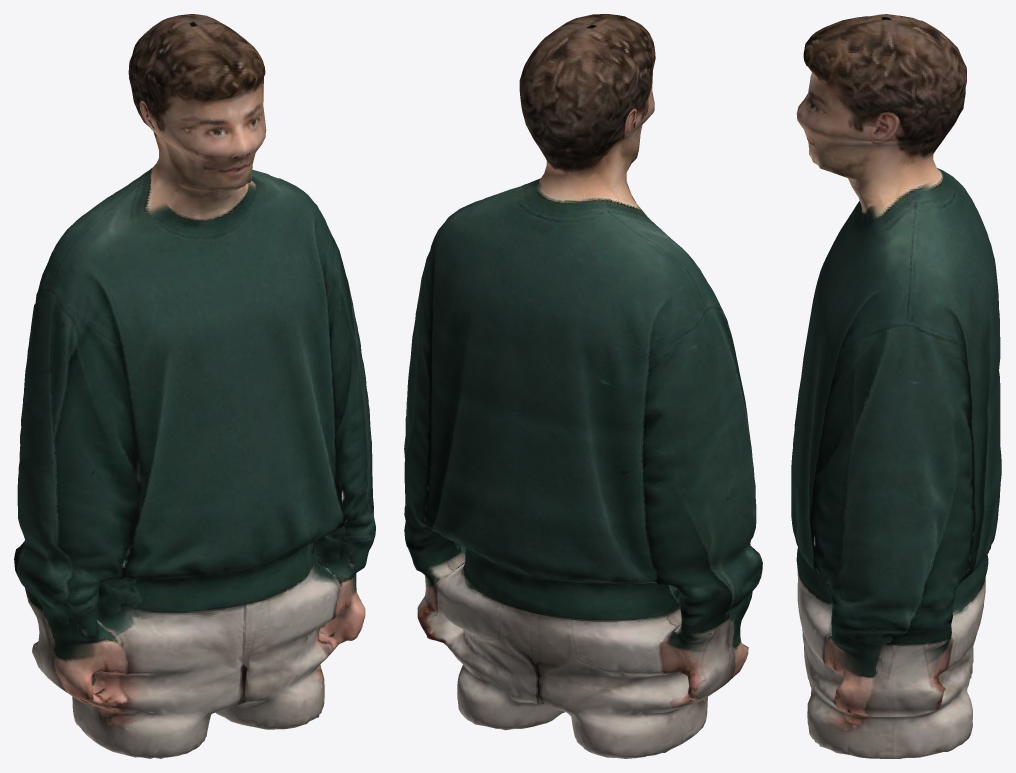
Rendered from forest-model.glb.
The picture shows the model from 3 angles, left to right: view 1: azimuth 30°, elevation 25°; view 2: azimuth 150°, elevation 25°; view 3: azimuth 270°, elevation 25°; orthographic projection.
Parts seen in each view (by area): view 1: geometry_0; view 2: geometry_0; view 3: geometry_0.
Boxes of the visible parts, x1=… form: geometry_0: x1=14, y1=14, x2=375, y2=758; geometry_0: x1=404, y1=14, x2=762, y2=758; geometry_0: x1=791, y1=14, x2=1001, y2=758.
Bounding box in the file's own units: 0.468 × 0.9359 × 0.2594.
1 material, 1 textured.
